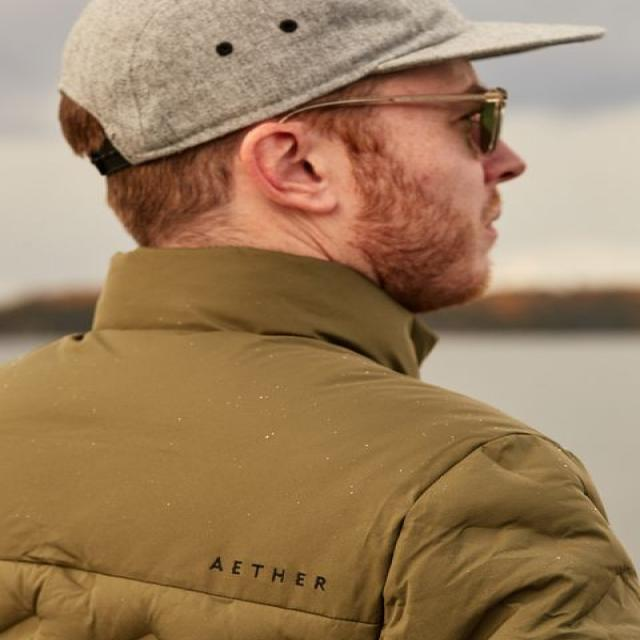cap: (50, 0, 602, 318)
